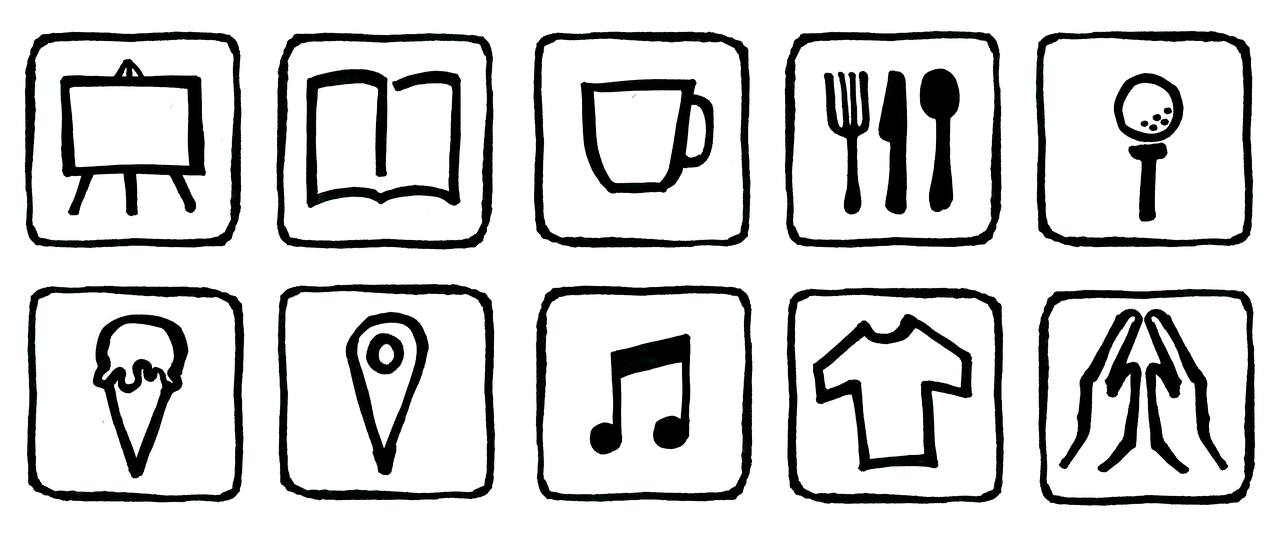knife: (872, 64, 911, 218)
